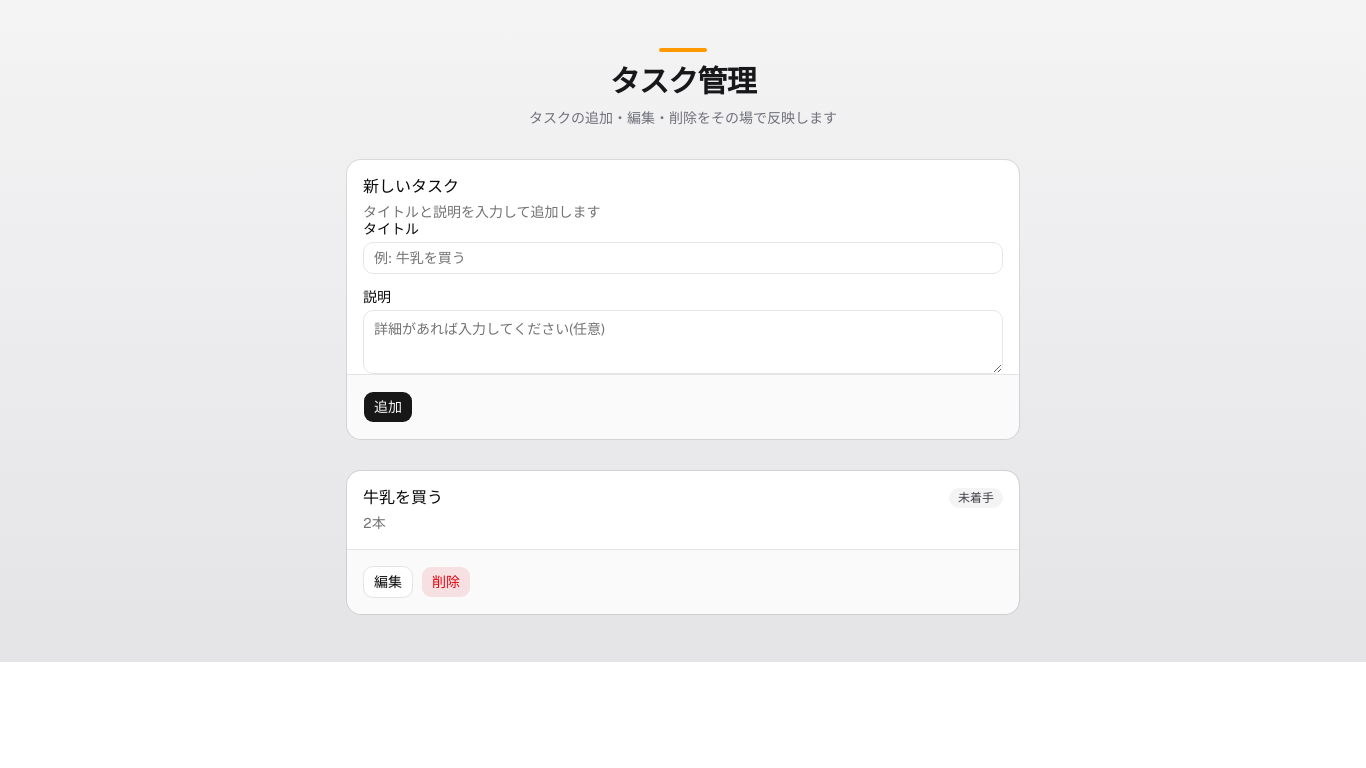
Test: TaskBoard タスクの削除 › 異常系: 削除に失敗するとエラー表示されタスクは一覧に残り続ける
Expected: the text "牛乳を買う" is shown, [363,487,443,508]
Click the button "削除": {"x": 446, "y": 582} [421,566,471,598]
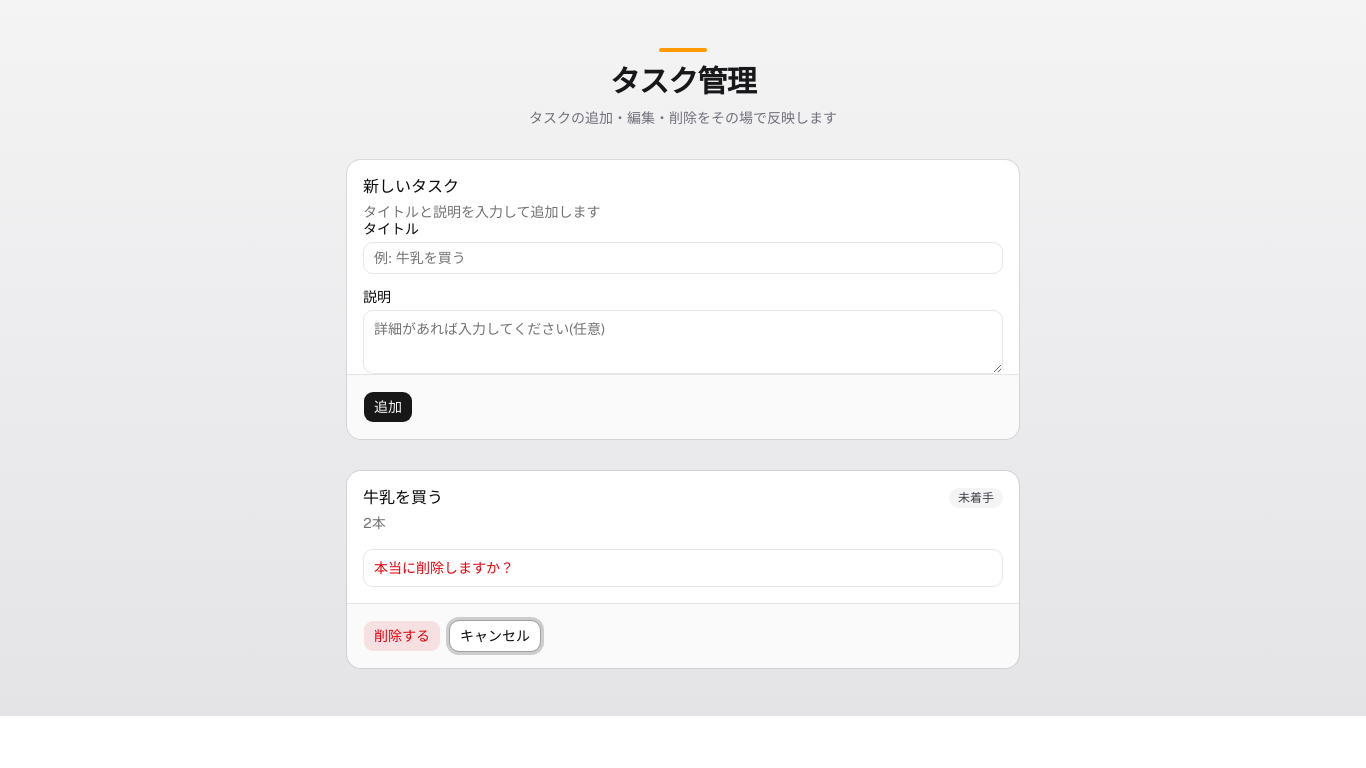
Click the button "削除する": {"x": 402, "y": 636} [363,620,441,652]
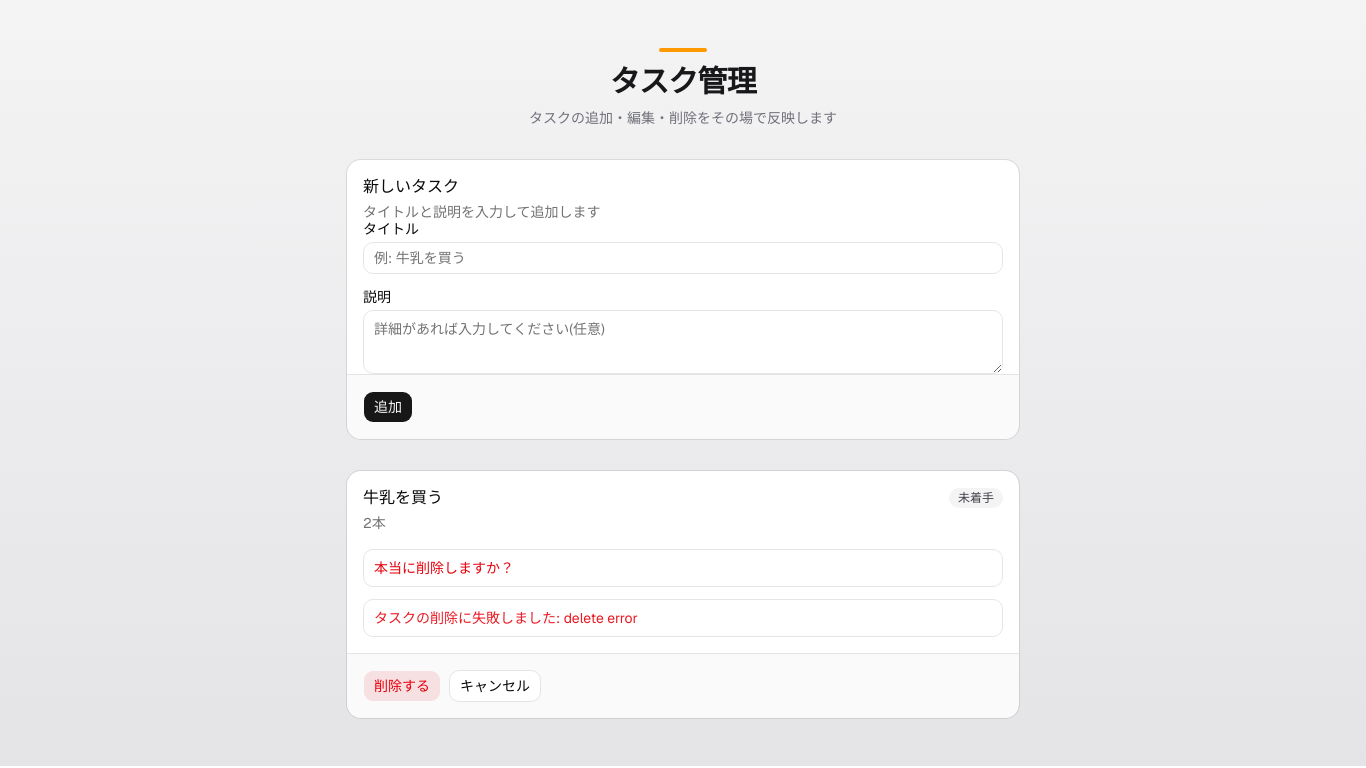
Expected: the text "牛乳を買う" is shown, [363,487,443,508]
Expected: the text "タスクの削除に失敗しました: delete error" is shown, [374,609,638,627]
